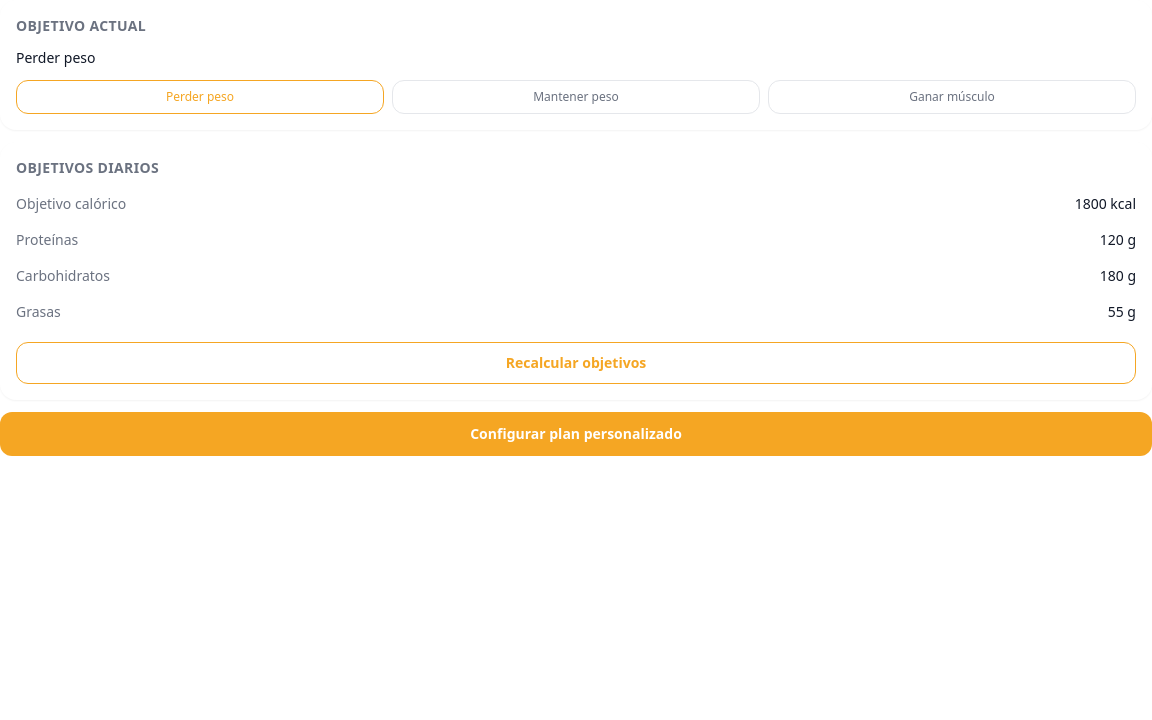
PlanRoute › opens the goal editor when 'Configurar plan personalizado' is clicked
Click the button "Configurar plan personalizado" at (576, 434), box [0,412,1151,456]
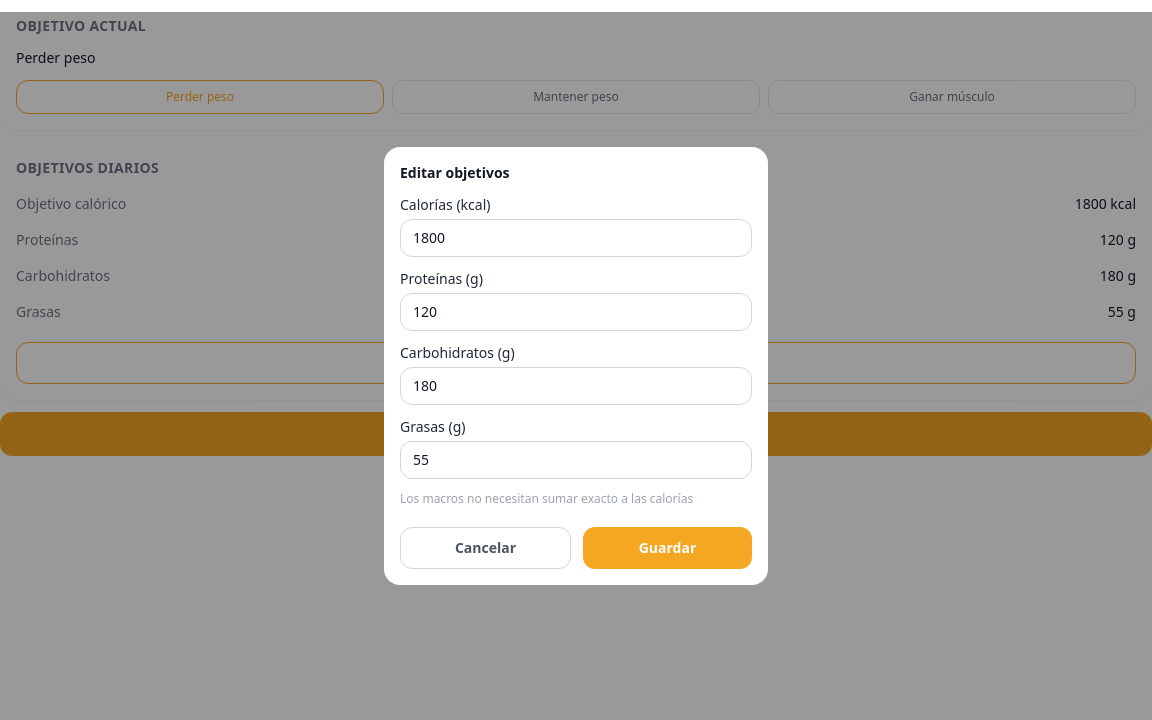
Expected: the dialog is shown
Expected: the heading "Editar objetivos" is shown, [400,163,510,182]
